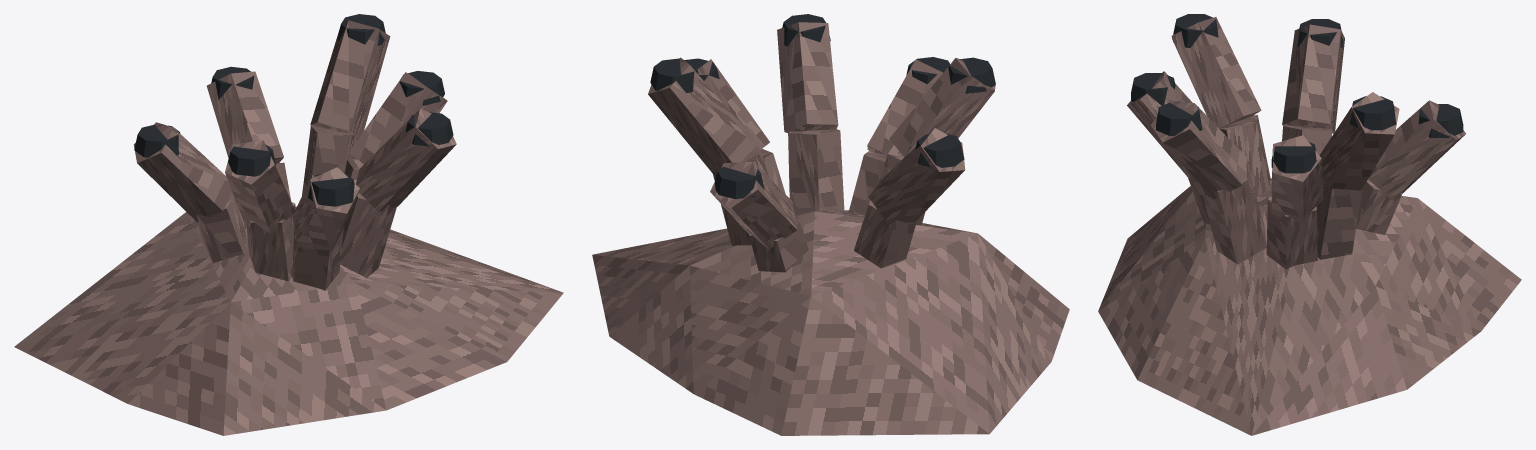
Rendered from f_alien_scar.glb.
3 views of the same model, side by side, from view 1: azimuth 30°, elevation 25°; view 2: azimuth 150°, elevation 25°; view 3: azimuth 270°, elevation 25° (orthographic). The views are drawn at different scales.
Parts seen in each view (by area): view 1: block_piled-alien-scar-tissue, block_curved-tentacle-2 (×7), block_curved-tentacle-1 (×5), block_scar-orifice (×7); view 2: block_piled-alien-scar-tissue, block_curved-tentacle-2 (×7), block_curved-tentacle-1 (×5), block_scar-orifice (×6); view 3: block_piled-alien-scar-tissue, block_curved-tentacle-2 (×7), block_curved-tentacle-1 (×6), block_scar-orifice (×7).
Part boxes in pixels (x1,y1,x2,y2): block_piled-alien-scar-tissue: (14,206,563,435); block_curved-tentacle-2 (×7): (133,20,456,252); block_curved-tentacle-1 (×5): (196,125,396,290); block_scar-orifice (×7): (134,14,453,206); block_piled-alien-scar-tissue: (592,210,1069,435); block_curved-tentacle-2 (×7): (648,22,995,249); block_curved-tentacle-1 (×5): (712,129,916,272); block_scar-orifice (×6): (650,14,995,199); block_piled-alien-scar-tissue: (1098,178,1521,435); block_curved-tentacle-2 (×7): (1127,17,1465,223); block_curved-tentacle-1 (×6): (1200,115,1402,269); block_scar-orifice (×7): (1131,14,1463,173).
Size of the model in its own units: 0.7829 by 0.4257 by 0.6105.
Materials: 1 (1 with a texture image).
